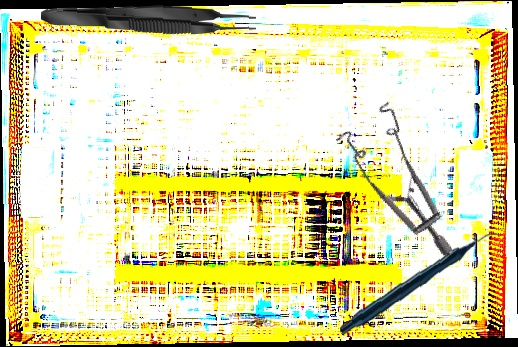Handpiece: (339, 224, 501, 343)
Speculum: (312, 88, 501, 260)
Tissue Forceps: (40, 0, 257, 38)
